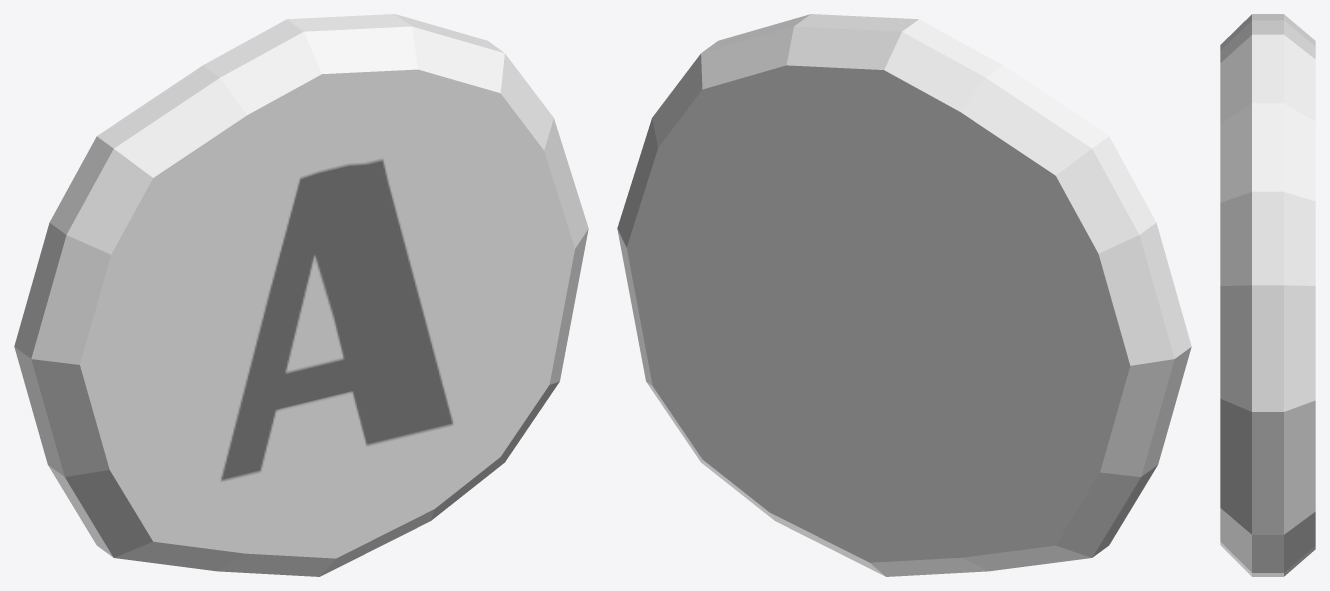
Rendered from Letter.fbx.
3 renders of one model, left to right at view 1: azimuth 30°, elevation 25°; view 2: azimuth 150°, elevation 25°; view 3: azimuth 270°, elevation 25°, orthographic. The views are drawn at different scales.
Parts seen in each view (by area): view 1: Cube.001; view 2: Cube.001; view 3: Cube.001.
Boxes of the visible parts, x1,y1,x2,y2 form: Cube.001: (14,14,588,576); Cube.001: (617,14,1191,576); Cube.001: (1220,14,1315,576).
Bounding box in the file's own units: 1.43 × 1.34 × 0.2262.
